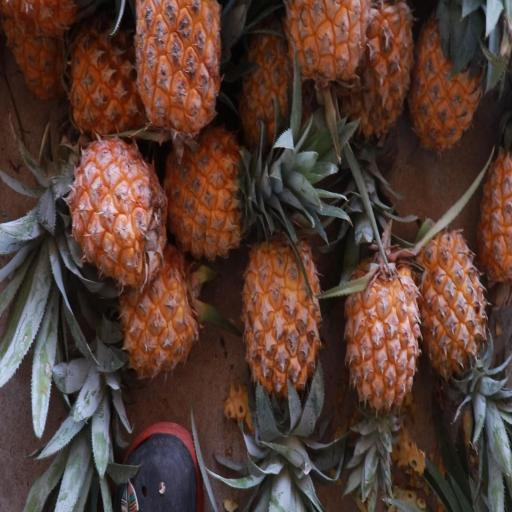Pineapple - v8 v1: (162, 115, 286, 262), (65, 126, 176, 290), (240, 225, 324, 436), (341, 251, 424, 435), (414, 222, 492, 401), (130, 0, 224, 139), (113, 239, 204, 382), (407, 0, 490, 156), (468, 123, 512, 288)
